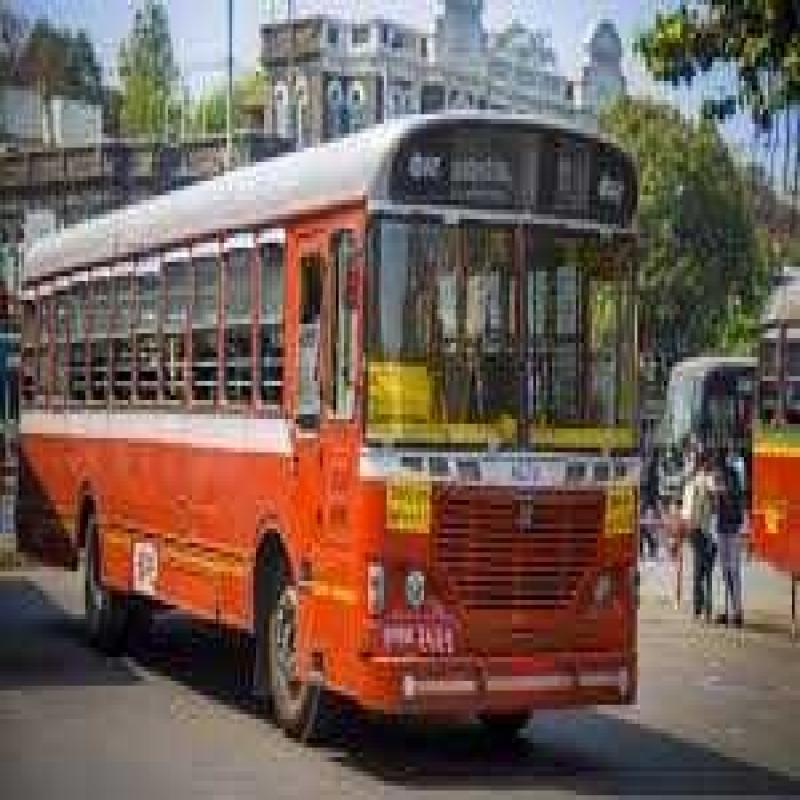bus: (23, 82, 633, 706)
